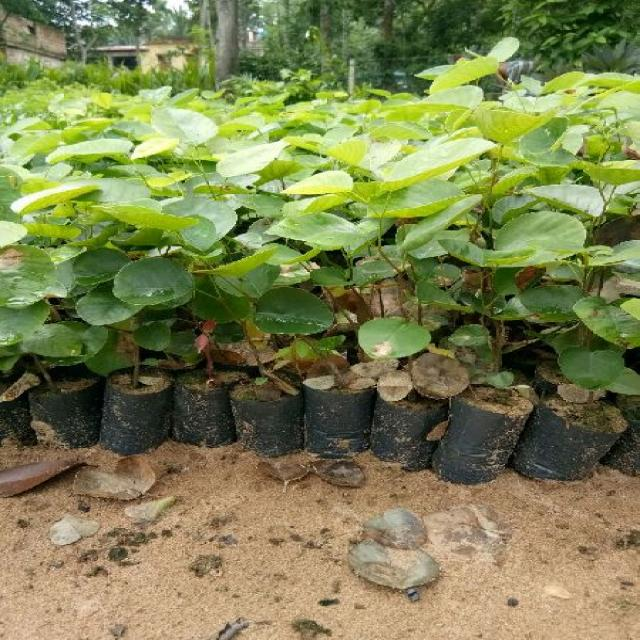Medicinal-Sandalwood: (2, 55, 640, 402)
